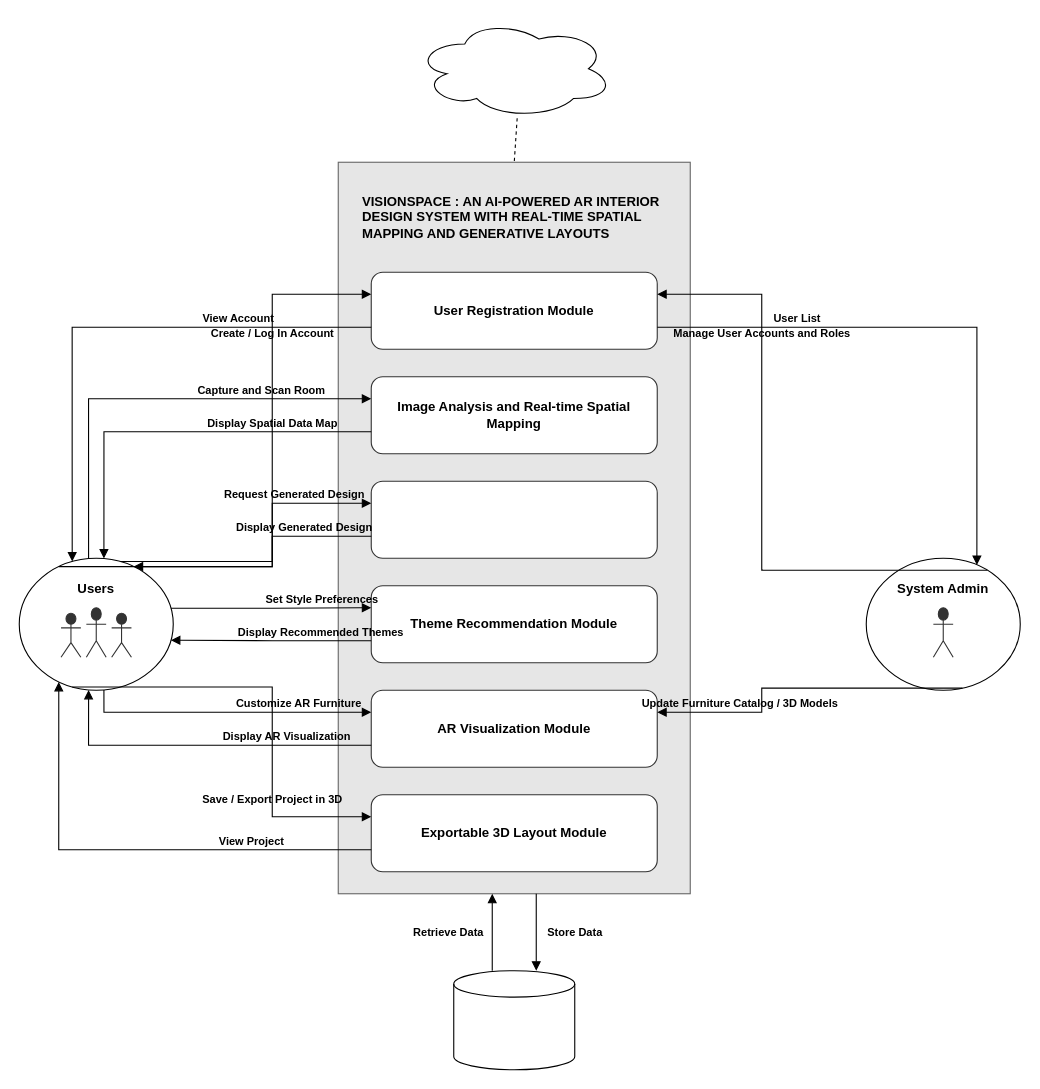
The diagram is 1040 pixels wide and 1089 high, and some of its shapes have lost their labels. The centre of each missing label's shape, as x and y in pixels:
"DATABASE" belongs at (x=514, y=1020).
"Generative AI Design Module" belongs at (x=513, y=519).
"Internet (AI Services, Image API, Cloud Storage)" belongs at (x=513, y=68).
